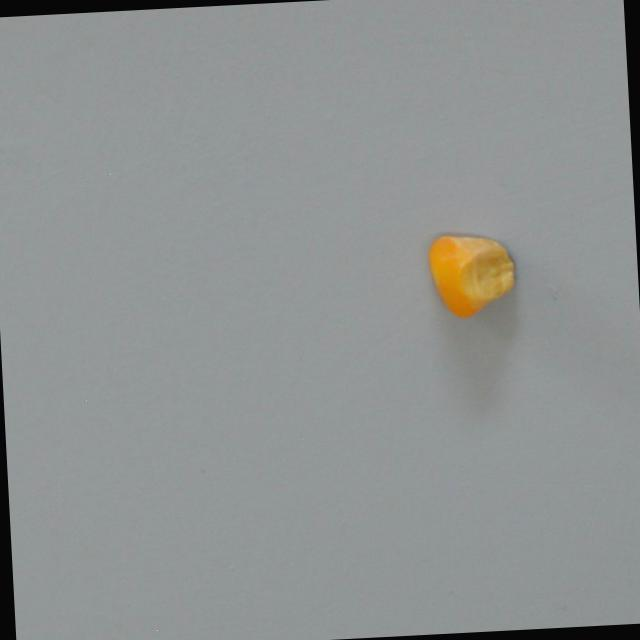dañado: (425, 229, 520, 324)
